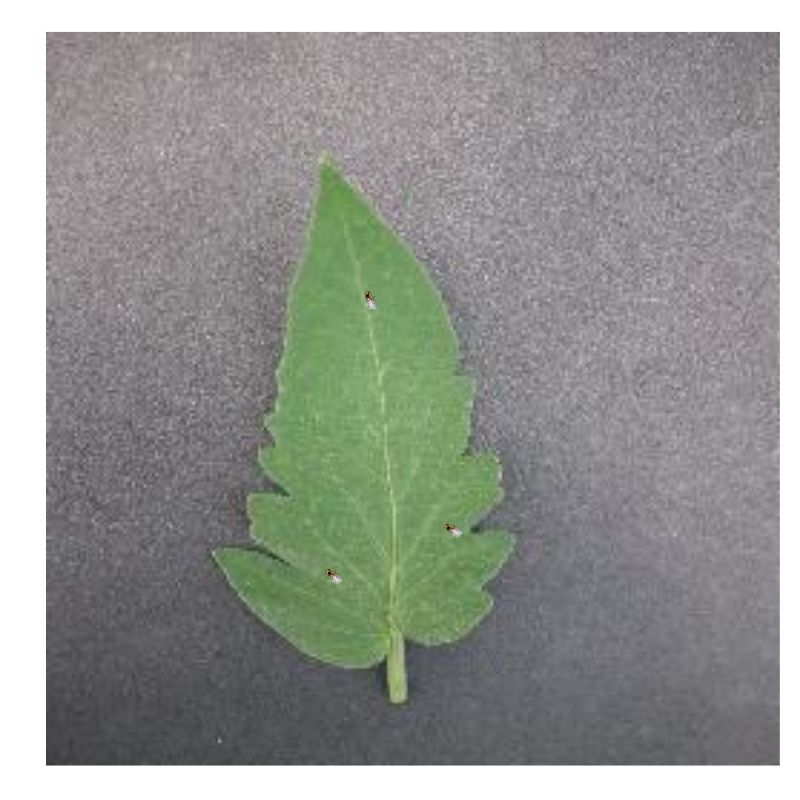liriomyza: (322, 564, 346, 587), (361, 287, 380, 312), (443, 520, 465, 540)
